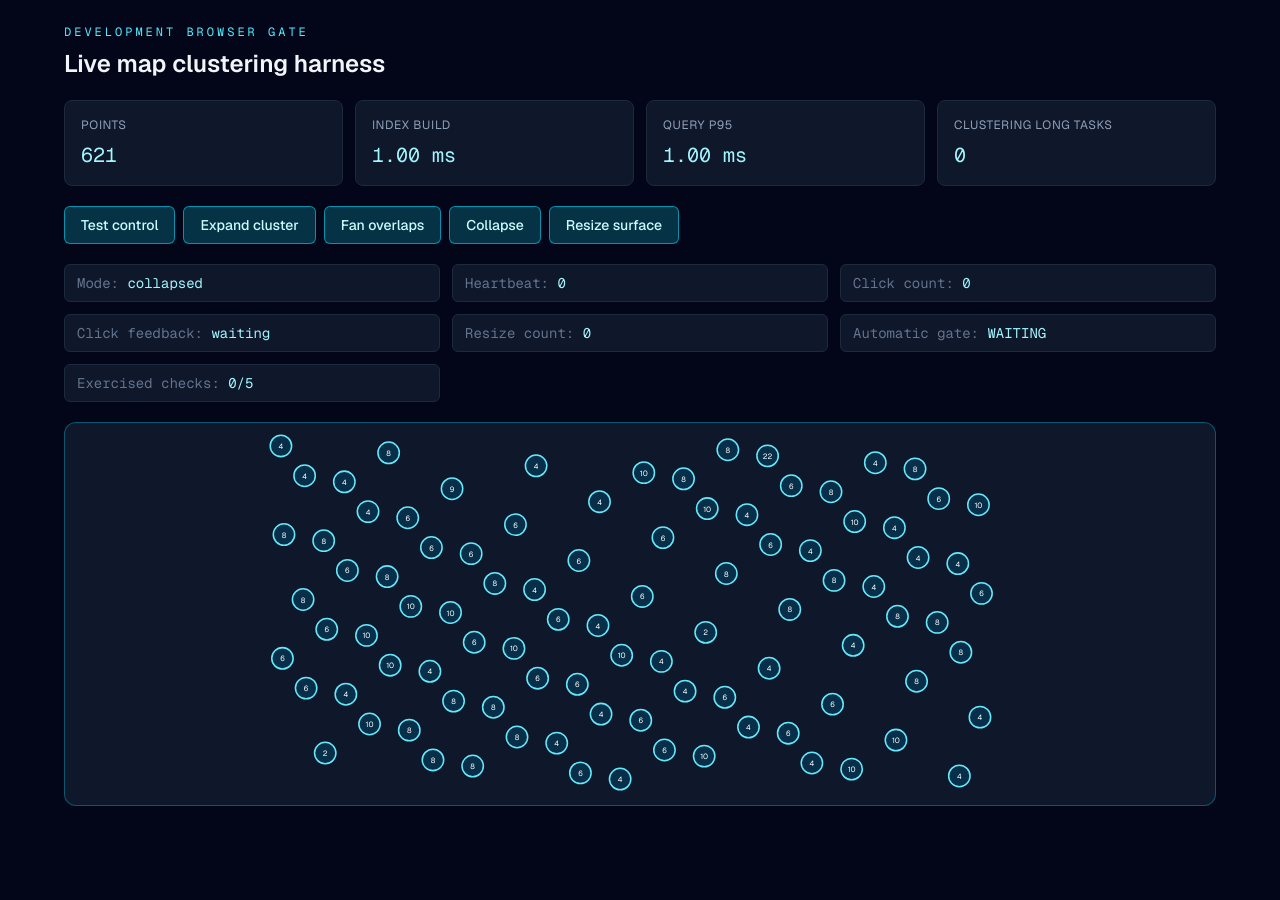
Scenario: LiveMapClusteringHarness › keeps heartbeat and click feedback responsive on animation frames
The width and height of the screenshot is (1280, 900).
Check: the text with test id "harness-build-time" shows "ms", box [372,142,456,168]
Check: the text with test id "harness-query-p95" shows "ms", box [663,142,747,168]
Click the button "Test control" at (120, 225), box [64,206,176,244]
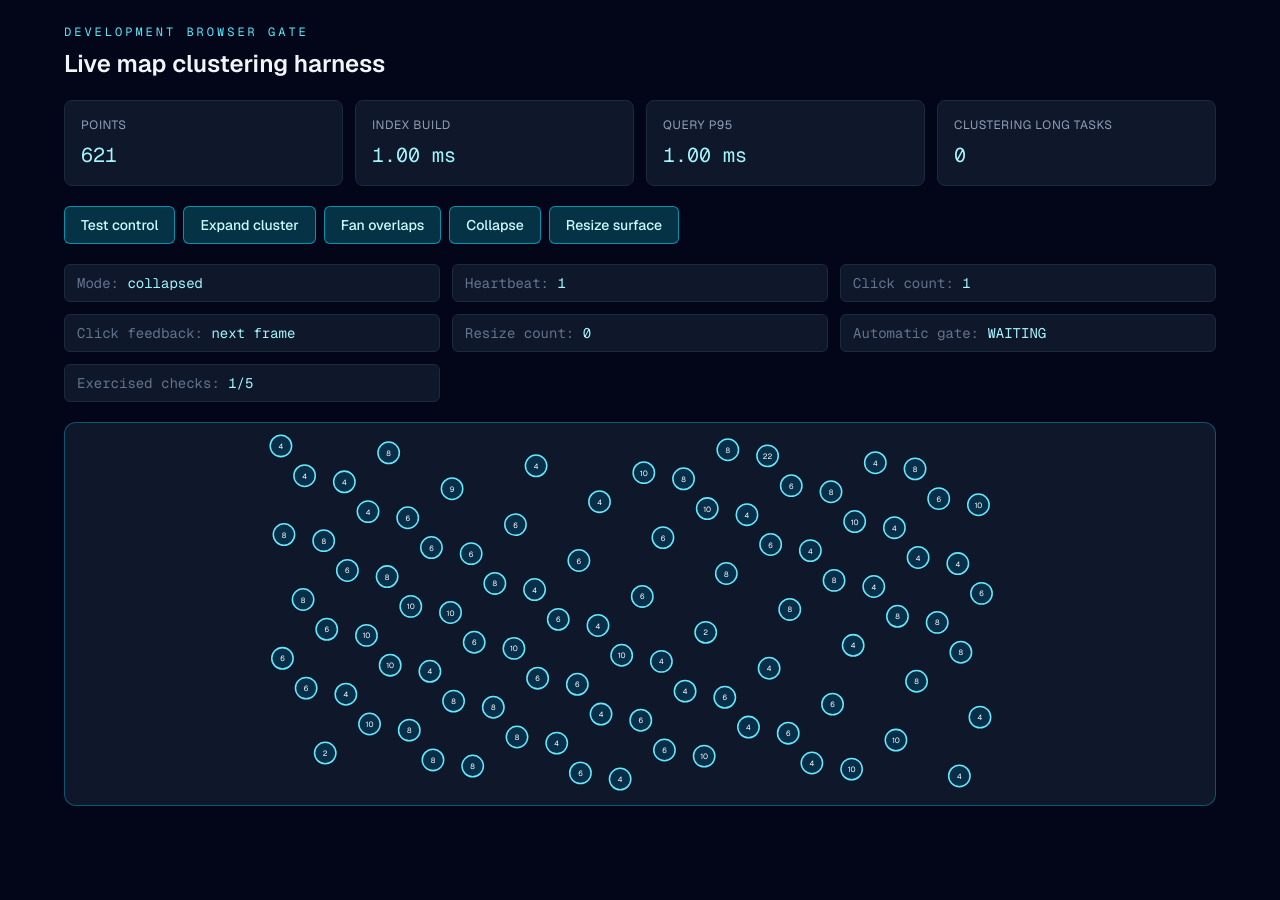
Check: the text with test id "harness-click-count" reads "1", box [962,274,971,292]
Check: the text with test id "harness-heartbeat" reads "1", box [557,274,566,292]
Check: the text with test id "harness-click-feedback" reads "next frame", box [211,324,295,342]
